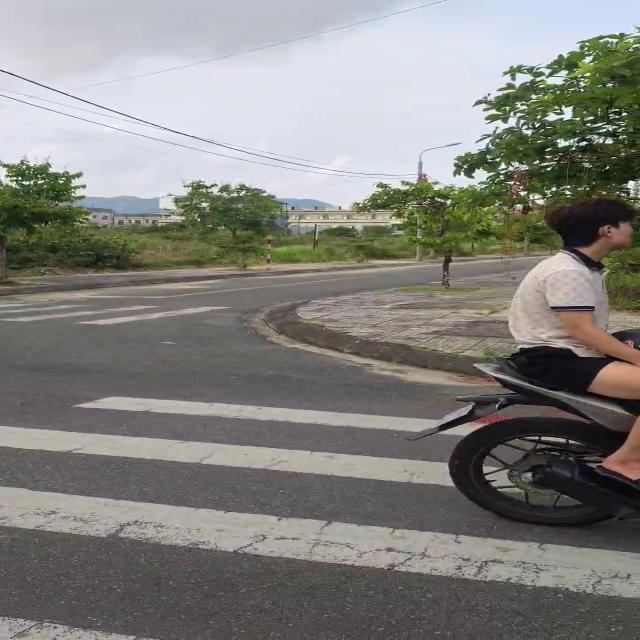no_helmet: (549, 196, 640, 273)
